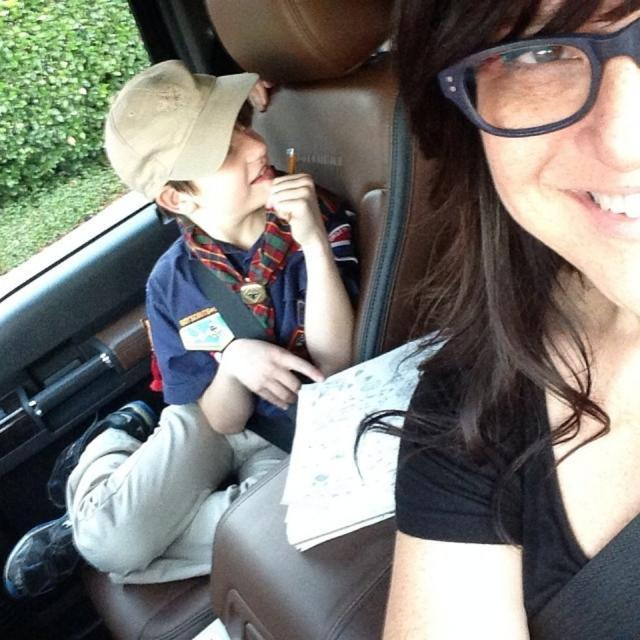SafeDriving: (476, 26, 608, 91)
Seatbelt: (525, 515, 639, 639)
